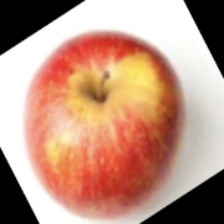apple: (19, 26, 176, 169)
